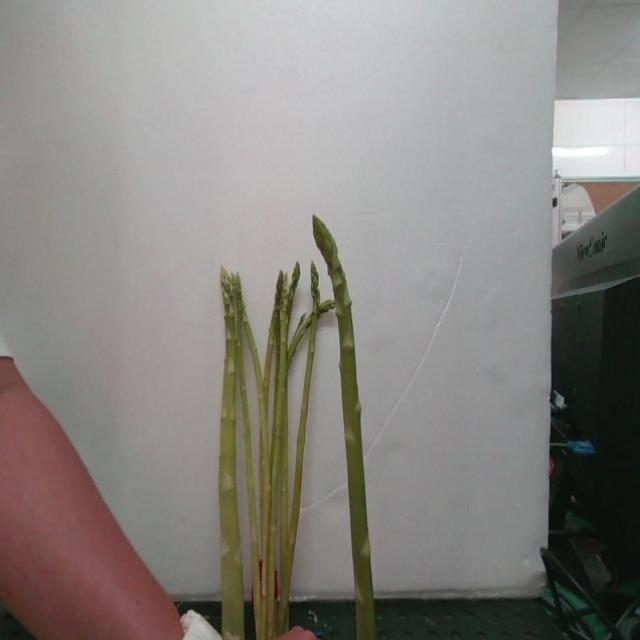aspargus: (310, 217, 374, 640)
